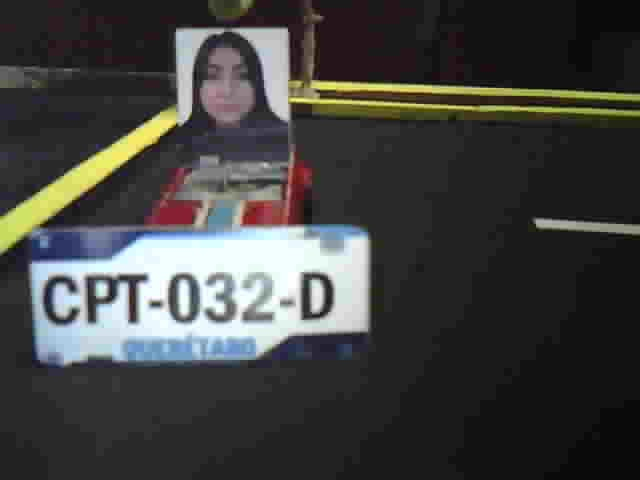PLACA: (25, 221, 375, 372)
ROSTRO: (175, 30, 290, 160)
